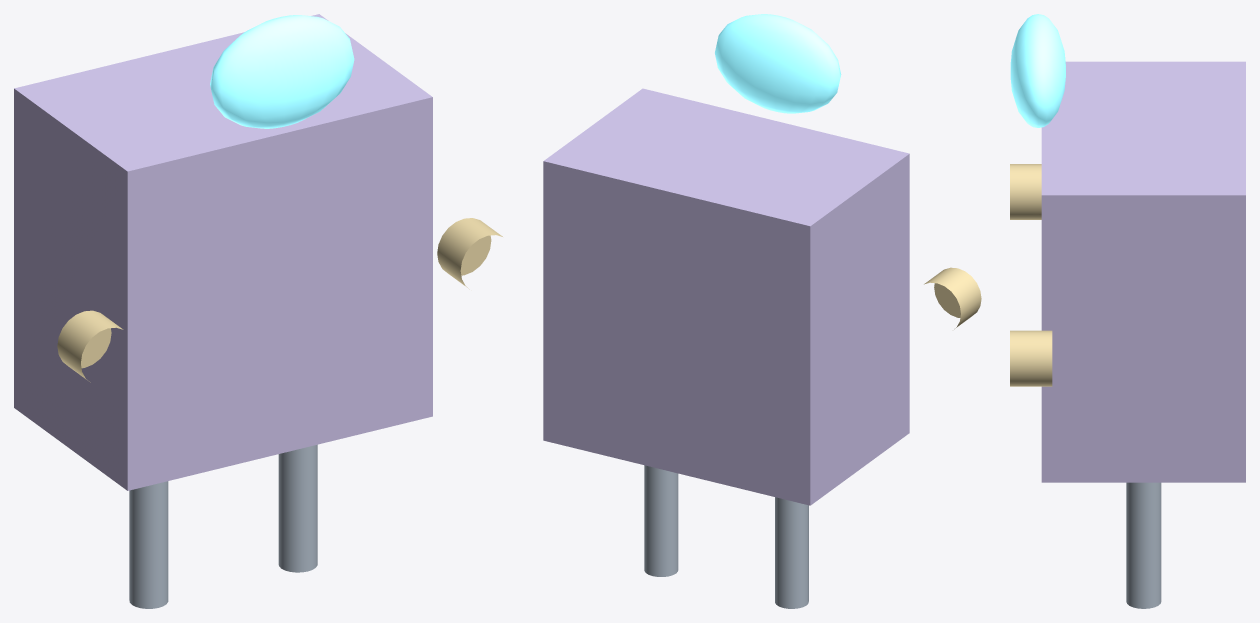
The model's file is dance-console-bot.glb.
3 views of the same model, side by side, from view 1: azimuth 30°, elevation 25°; view 2: azimuth 150°, elevation 25°; view 3: azimuth 270°, elevation 25° (orthographic). The views are drawn at different scales.
Parts seen in each view (by area): view 1: dance-console-bot-console-body, dance-console-bot-display-face, dance-console-bot-left-leg, dance-console-bot-right-leg, dance-console-bot-right-speaker, dance-console-bot-left-speaker; view 2: dance-console-bot-console-body, dance-console-bot-display-face, dance-console-bot-right-leg, dance-console-bot-left-leg, dance-console-bot-left-speaker; view 3: dance-console-bot-console-body, dance-console-bot-display-face, dance-console-bot-right-leg, dance-console-bot-right-speaker, dance-console-bot-left-speaker.
Boxes of the visible parts, bbox=[...] form: dance-console-bot-console-body: bbox=[14, 14, 432, 490]; dance-console-bot-display-face: bbox=[210, 15, 354, 128]; dance-console-bot-left-leg: bbox=[129, 481, 168, 608]; dance-console-bot-right-leg: bbox=[278, 444, 317, 572]; dance-console-bot-right-speaker: bbox=[437, 218, 502, 289]; dance-console-bot-left-speaker: bbox=[57, 310, 123, 382]; dance-console-bot-console-body: bbox=[543, 88, 909, 505]; dance-console-bot-display-face: bbox=[715, 14, 841, 113]; dance-console-bot-right-leg: bbox=[644, 465, 678, 576]; dance-console-bot-left-leg: bbox=[775, 497, 808, 608]; dance-console-bot-left-speaker: bbox=[924, 267, 981, 329]; dance-console-bot-console-body: bbox=[1041, 61, 1245, 482]; dance-console-bot-display-face: bbox=[1010, 14, 1065, 127]; dance-console-bot-right-leg: bbox=[1126, 482, 1161, 608]; dance-console-bot-right-speaker: bbox=[1010, 330, 1052, 386]; dance-console-bot-left-speaker: bbox=[1010, 164, 1041, 219].
Size of the model in its own units: 1.28 by 1.71 by 0.6701.
